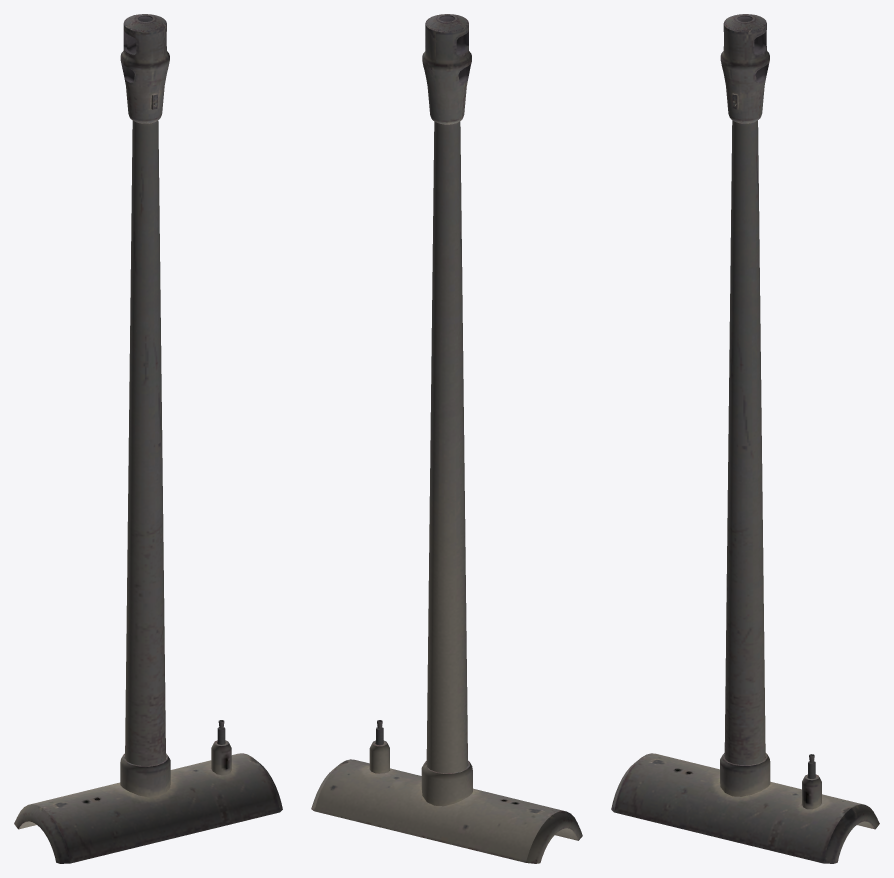
Rendered from Gun_01.glb.
3 renders of one model, left to right at view 1: azimuth 30°, elevation 25°; view 2: azimuth 150°, elevation 25°; view 3: azimuth 330°, elevation 25°, orthographic.
Visible parts, largest first — view 1: set_0_group_0; view 2: set_0_group_0; view 3: set_0_group_0.
Part boxes in pixels (<box>): set_0_group_0: <box>14,14,282,863</box>; set_0_group_0: <box>311,14,582,863</box>; set_0_group_0: <box>611,14,879,863</box>.
Size of the model in its own units: 1.26 by 4.32 by 0.5237.
1 material, 1 textured.
